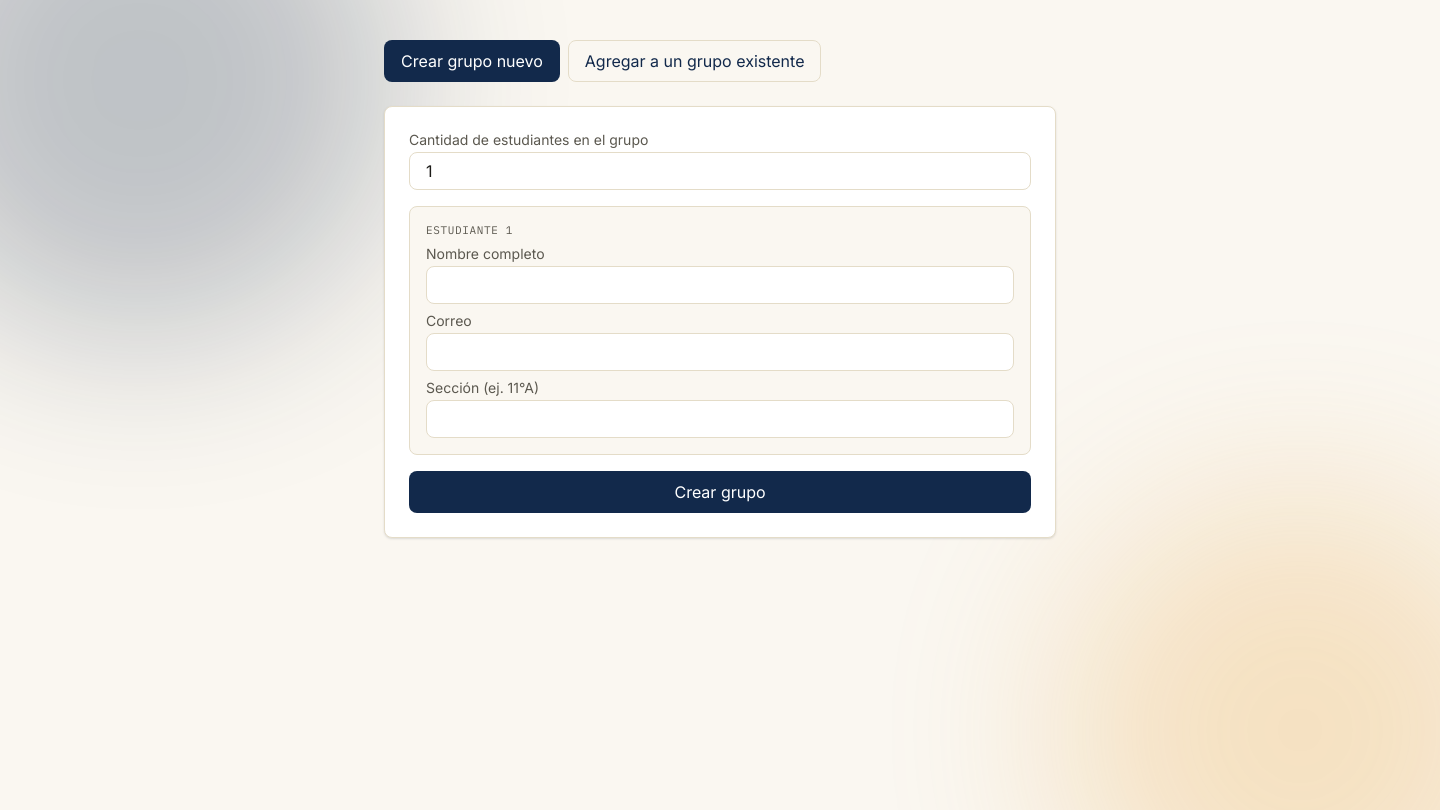
Test case: AdminStudentsPage — modo "grupo nuevo" › arranca con una fila de estudiante, y cambiar la cantidad agrega filas
Expected: the text "Estudiante 1" is shown once, [426,223,513,237]
Step 1. Replace the text in the number field labelled "Cantidad de estudiantes en el grupo" with "3" → (720, 171), box [409,152,1031,190]
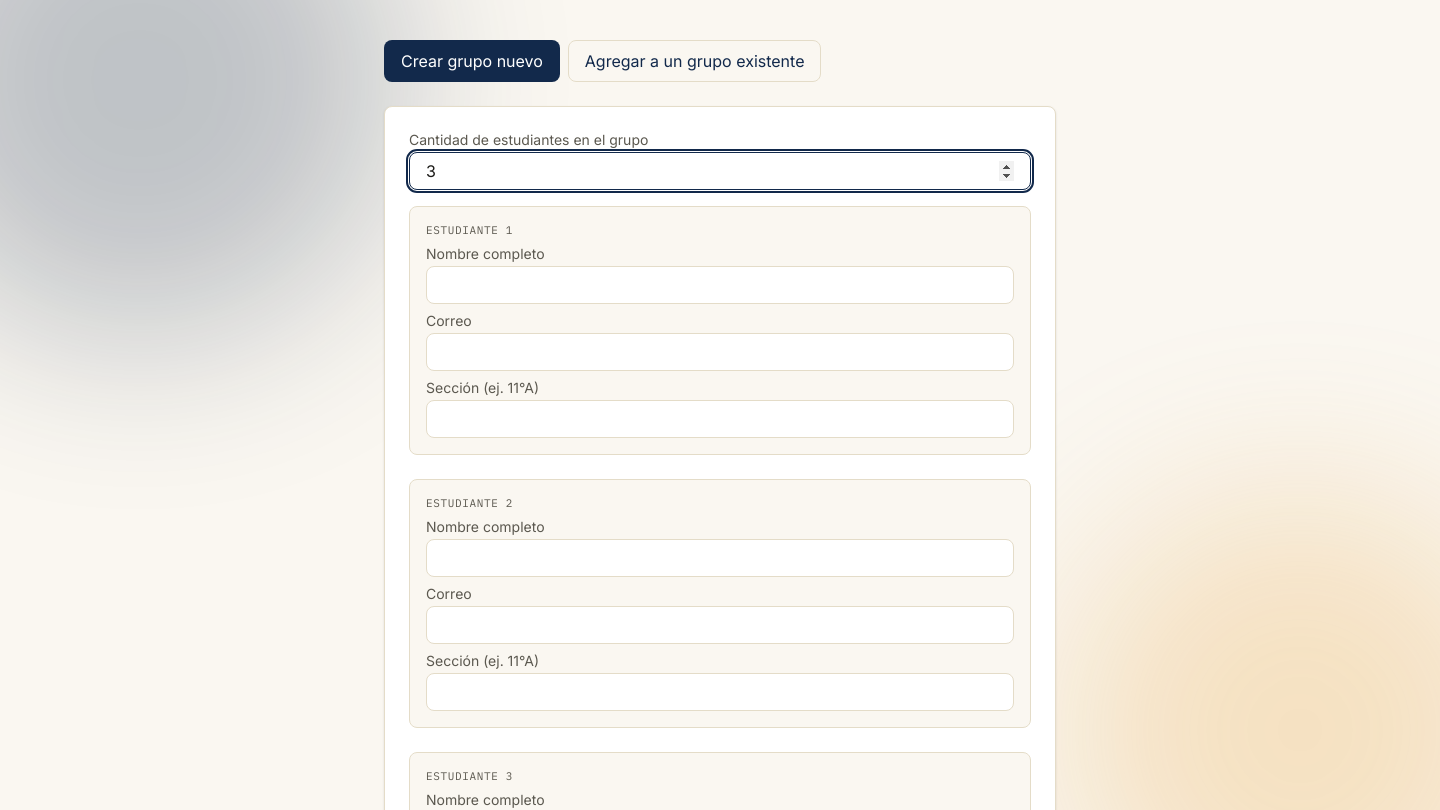
Now the text "Estudiante 1" is shown 3 times, box [426,223,513,237]; [426,496,513,510]; [426,769,513,783]
